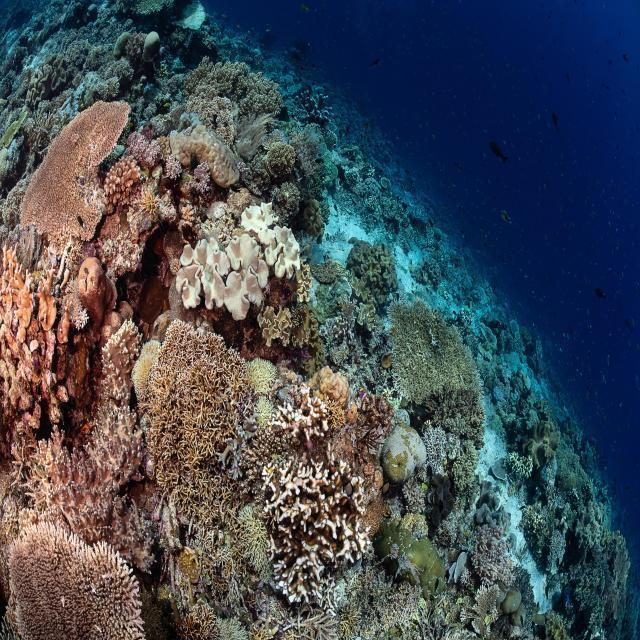Bleached Coral: (178, 206, 303, 319)
Healthy Coral: (130, 325, 230, 519), (0, 522, 146, 640), (11, 417, 146, 521), (393, 304, 478, 404), (0, 243, 73, 351), (29, 134, 97, 244), (186, 57, 291, 118), (258, 303, 330, 371), (350, 237, 405, 309), (237, 499, 270, 583), (104, 157, 141, 206), (128, 131, 167, 171), (264, 144, 298, 178), (306, 195, 326, 247), (296, 263, 317, 305), (144, 184, 161, 216), (194, 162, 211, 193), (333, 314, 349, 345), (167, 156, 181, 179)
